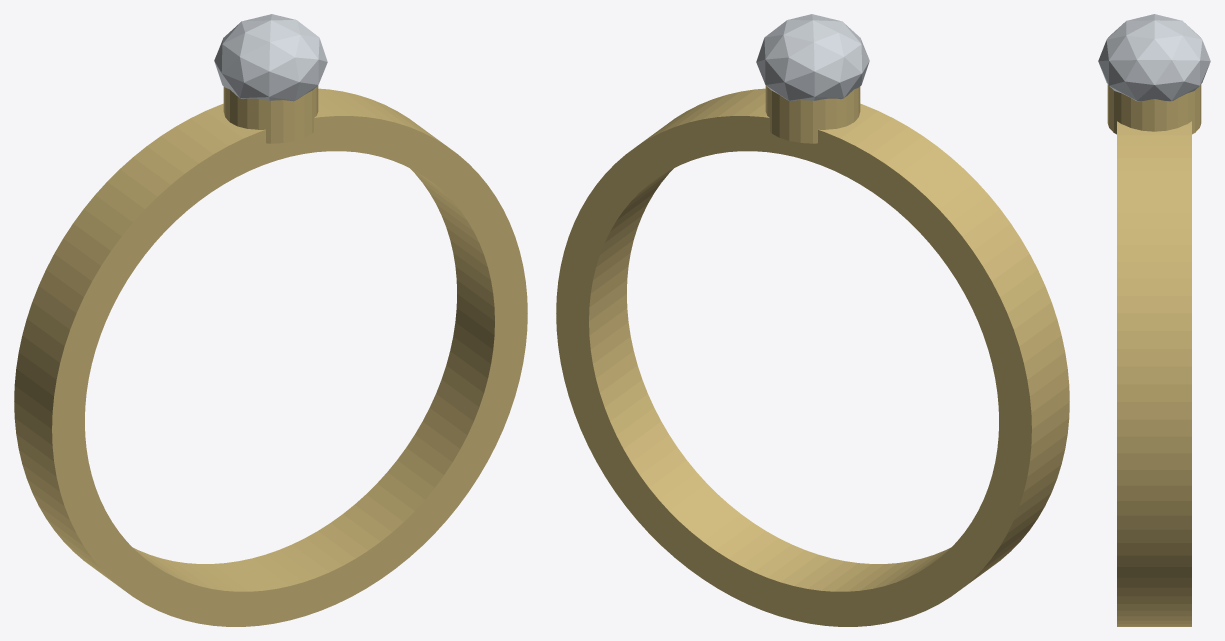
File: gold_ring_3d.glb
The picture shows the model from 3 angles, left to right: view 1: azimuth 30°, elevation 25°; view 2: azimuth 150°, elevation 25°; view 3: azimuth 270°, elevation 25°; orthographic projection.
Visible parts, largest first — view 1: geometry_0; view 2: geometry_0; view 3: geometry_0.
Boxes of the visible parts, x1,y1,x2,y2 form: geometry_0: (14,14,527,626); geometry_0: (556,14,1069,626); geometry_0: (1098,14,1210,626).
Size of the model in its own units: 2.32 by 2.73 by 0.48.
